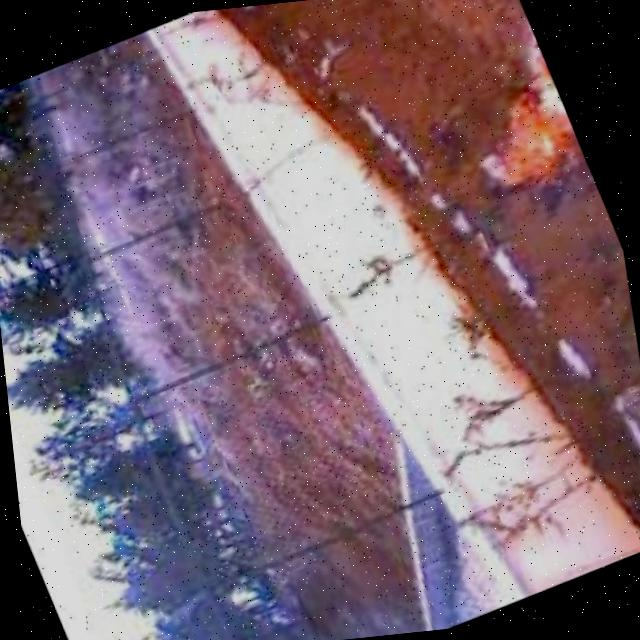fire: (438, 22, 597, 210)
